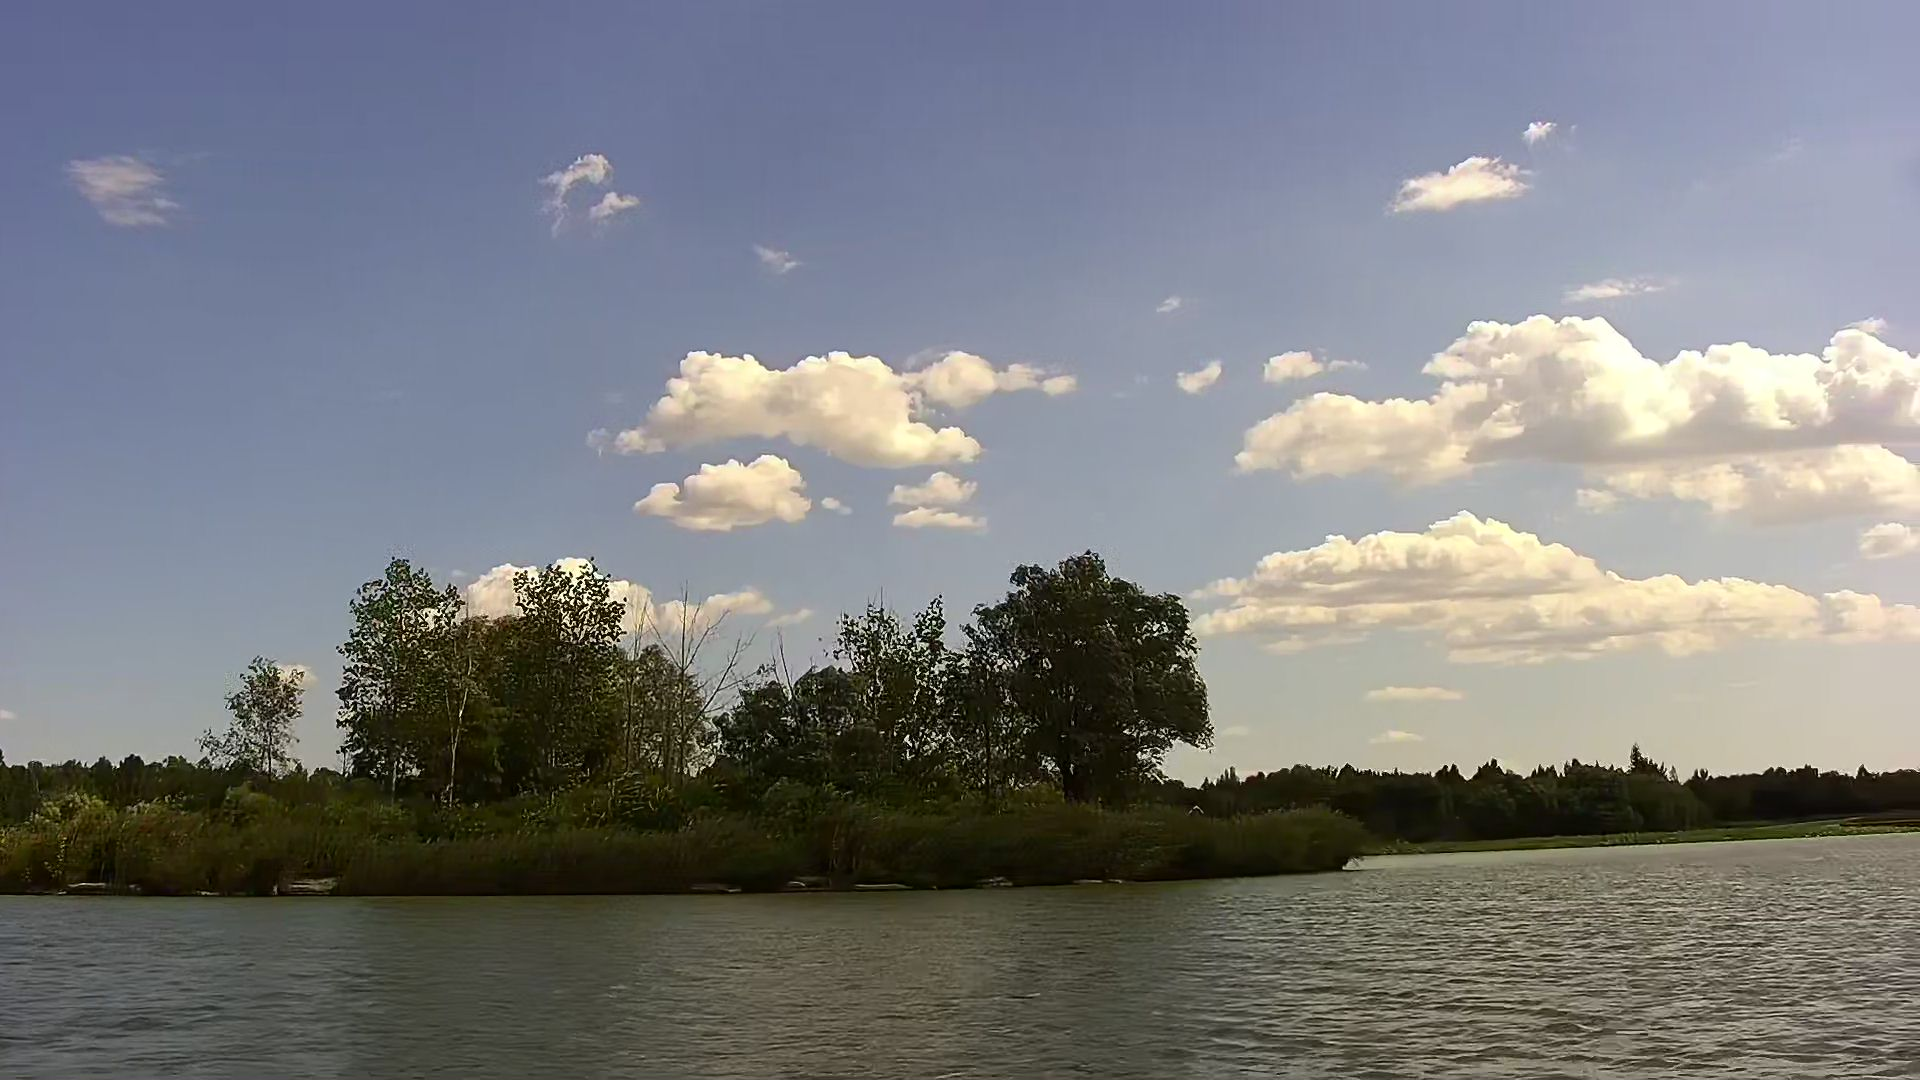rock: (274, 869, 328, 893)
